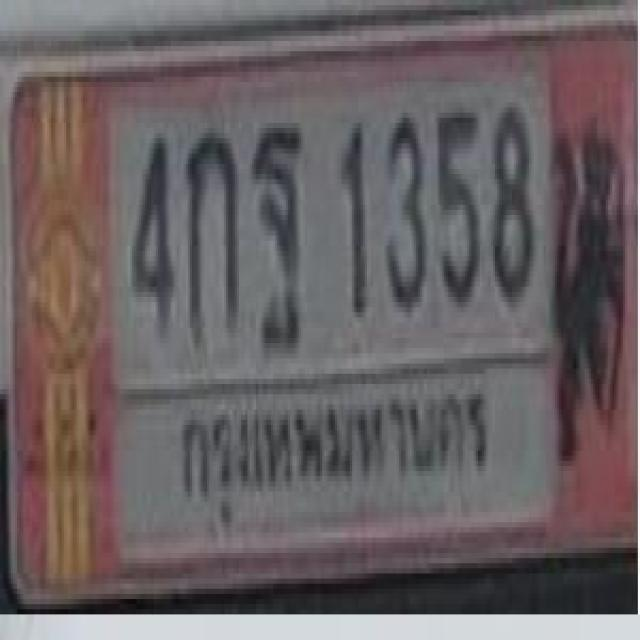license_plate: (11, 18, 640, 606)
